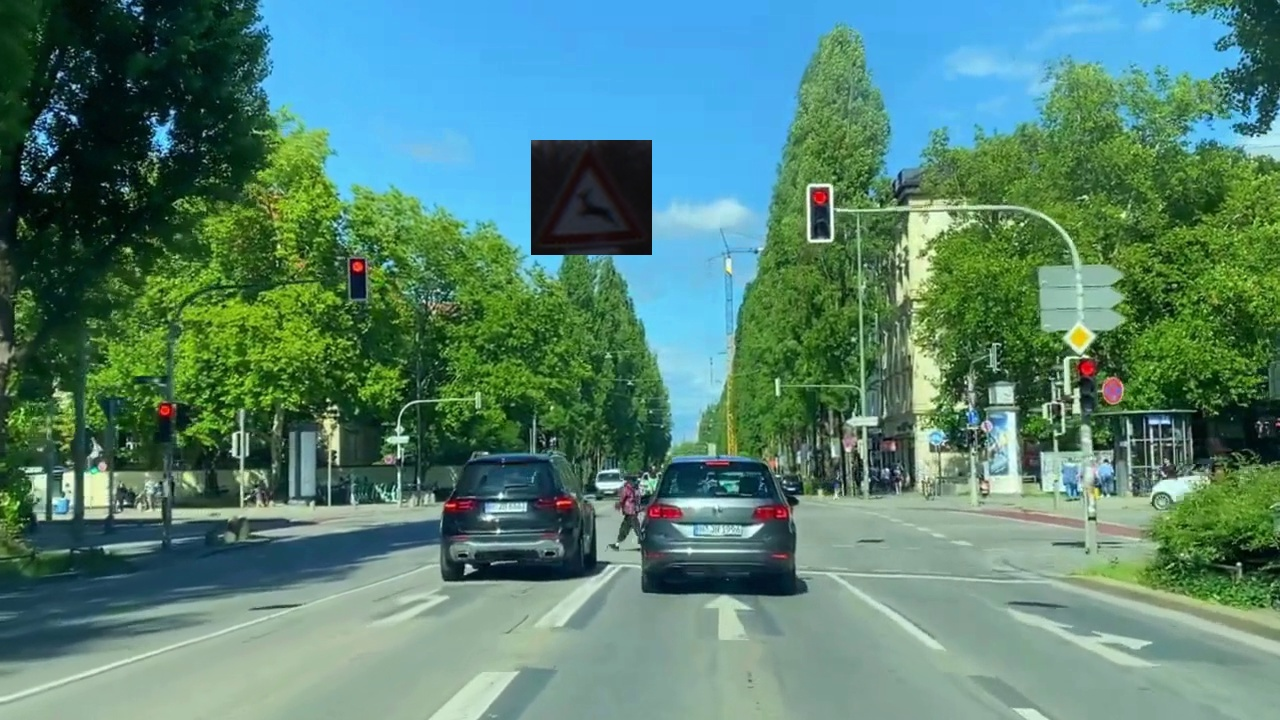Wild animals: (531, 140, 652, 255)
